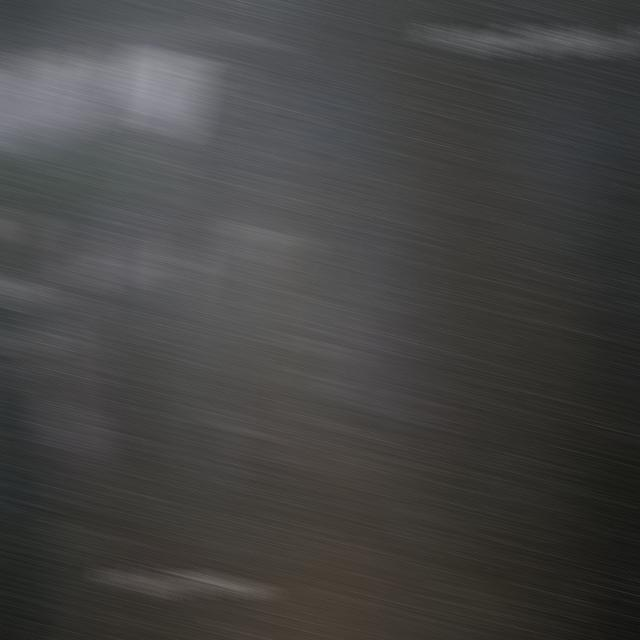cement_mixer_truck: (49, 198, 350, 524)
